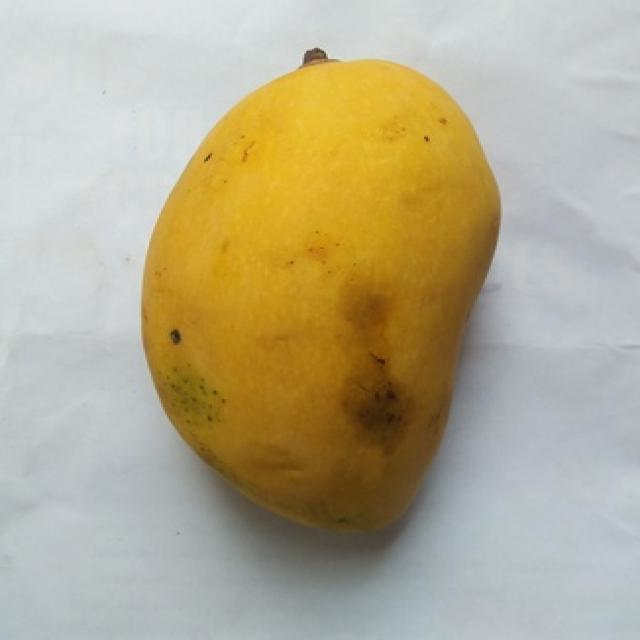Mango: (141, 53, 499, 530)
